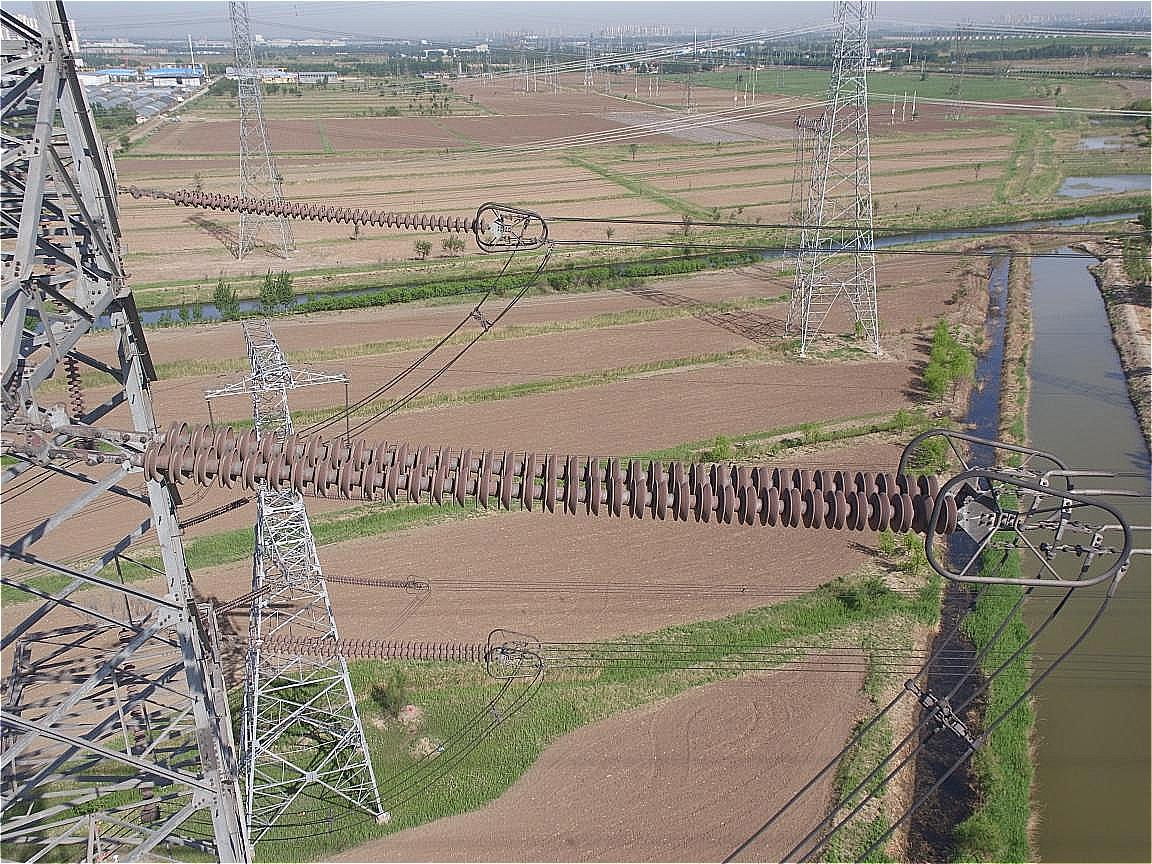insultor1: (173, 178, 489, 239), (256, 628, 494, 666)
insultor2: (133, 406, 975, 547)
